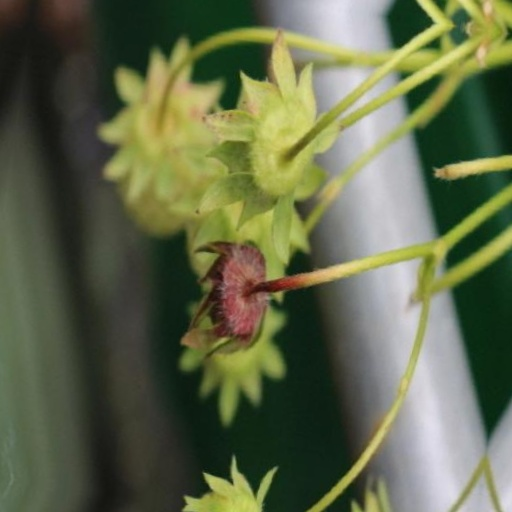Gray Mold: (212, 244, 321, 369)
